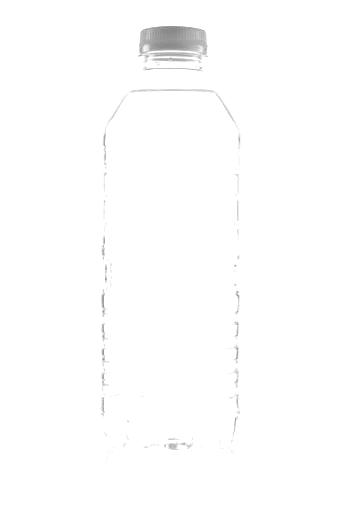bottle: (101, 26, 244, 454)
